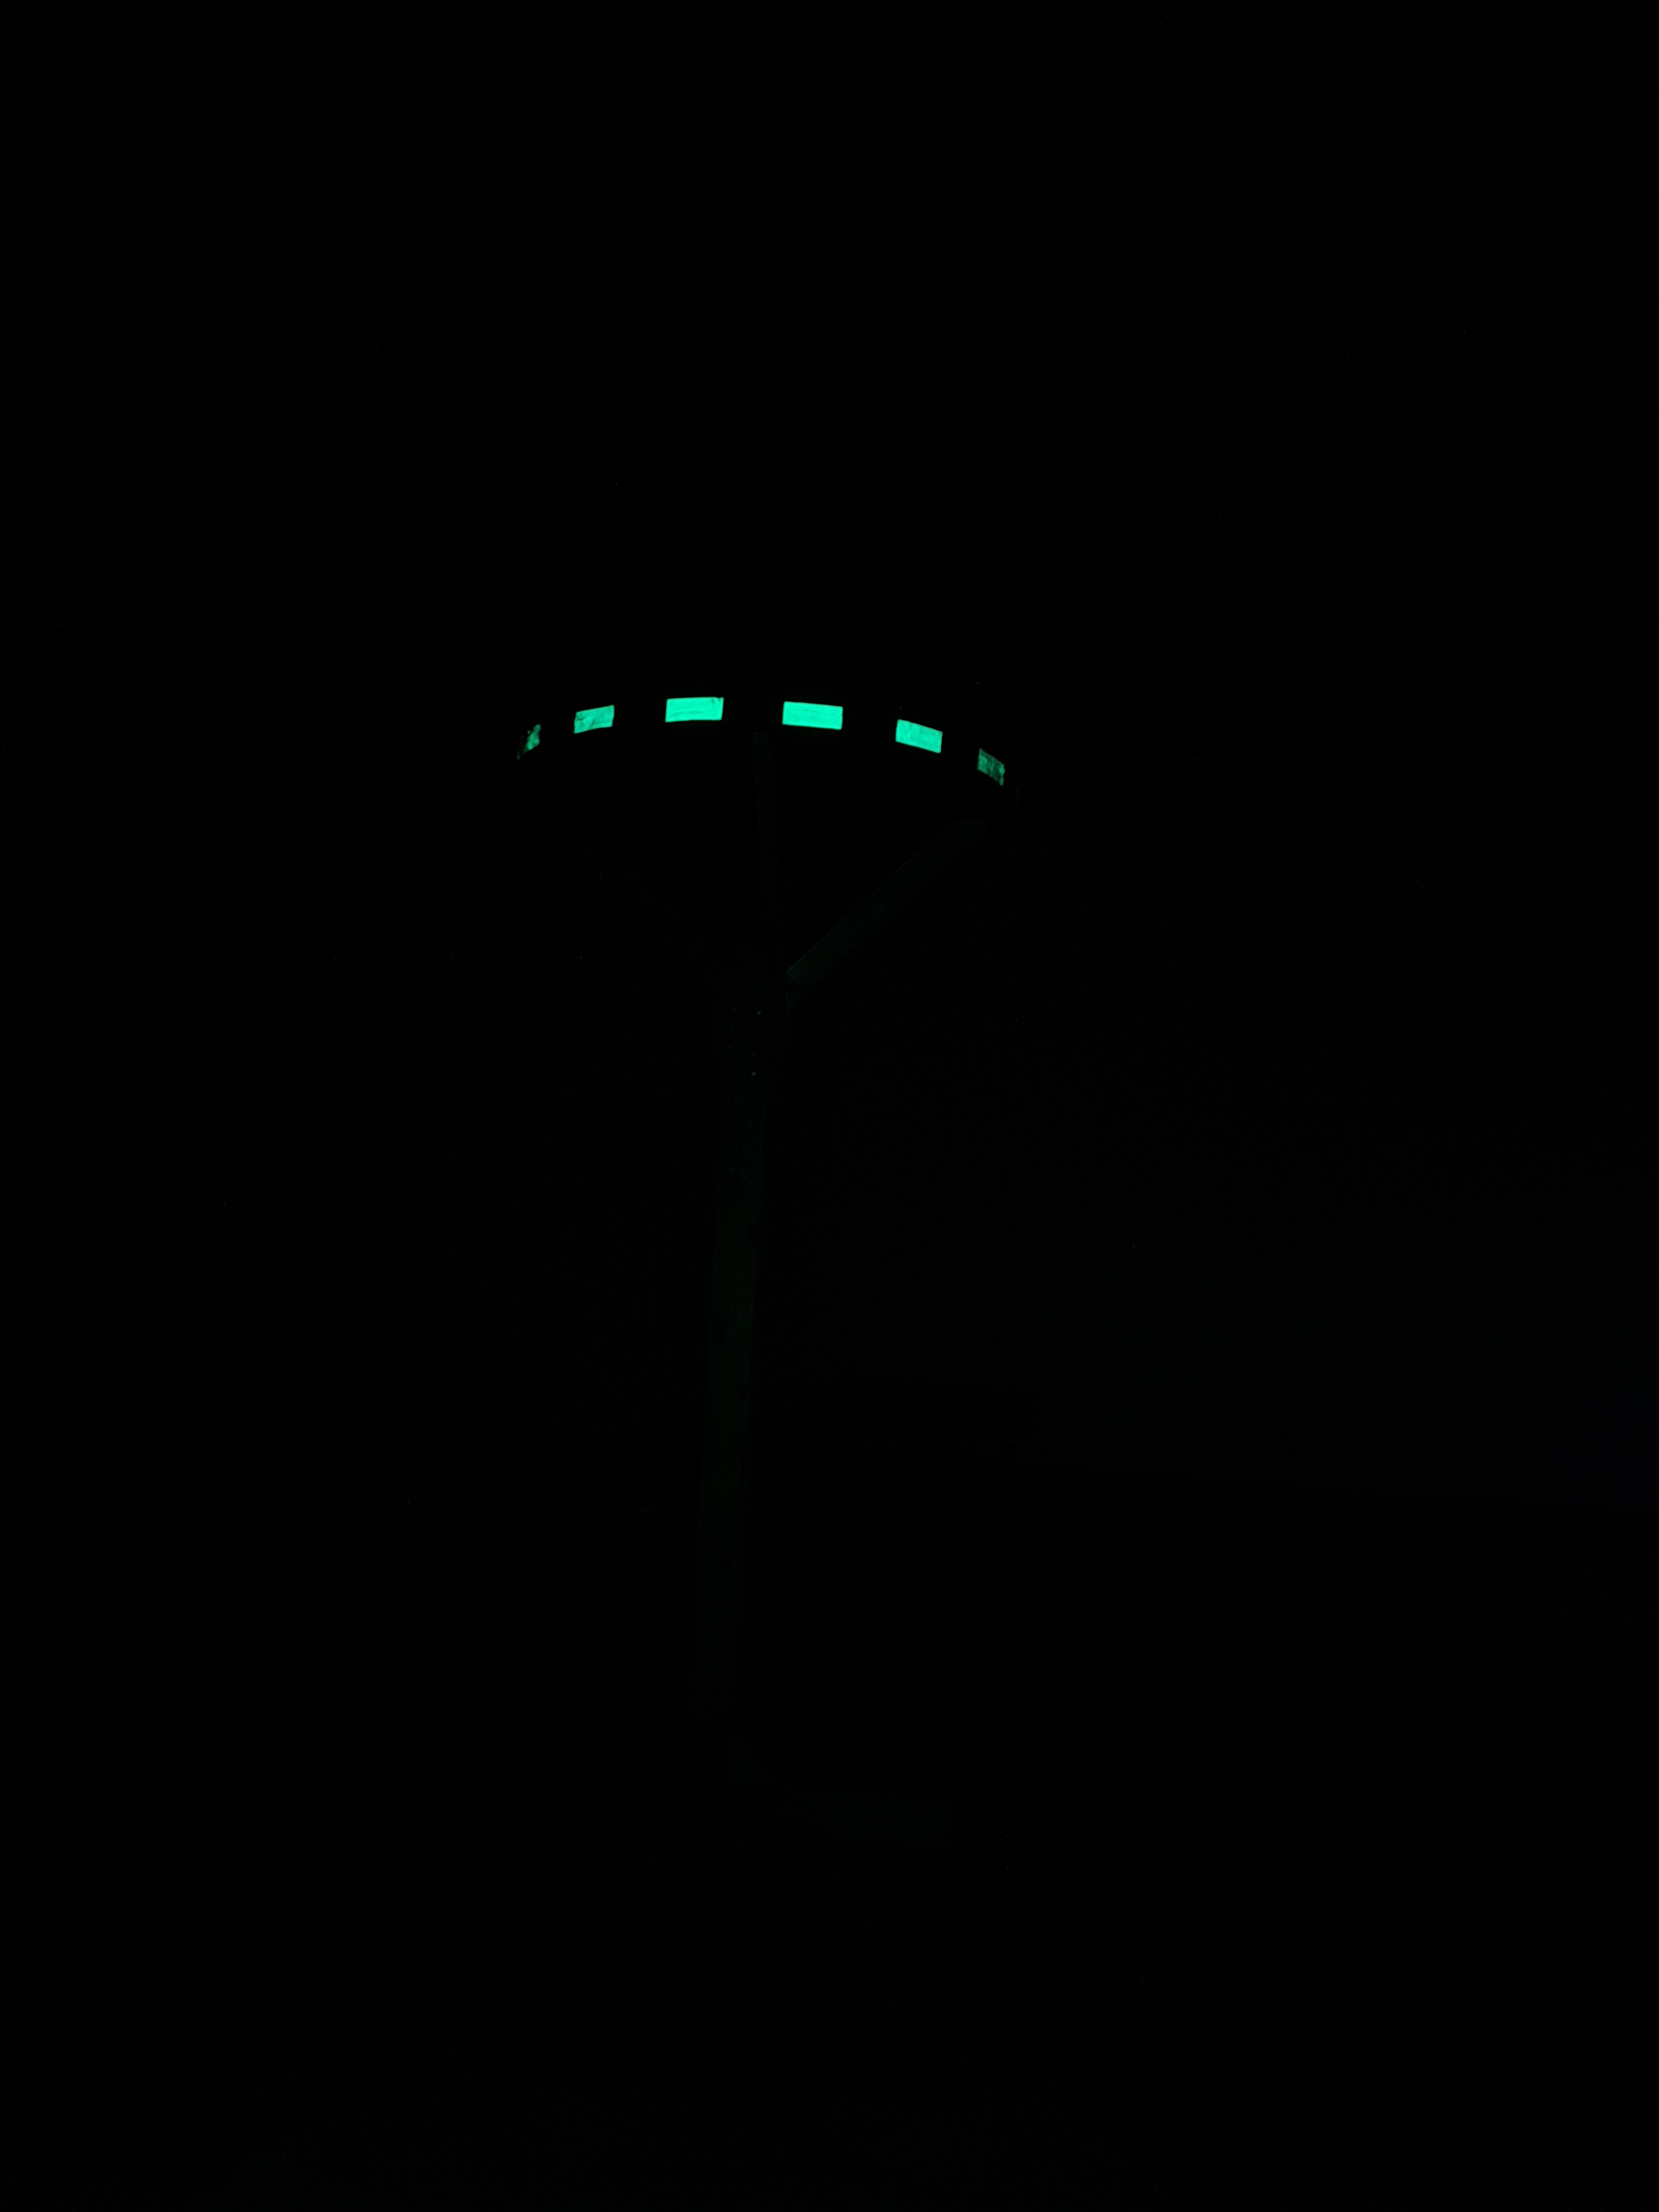hoop: (502, 669, 1032, 819)
